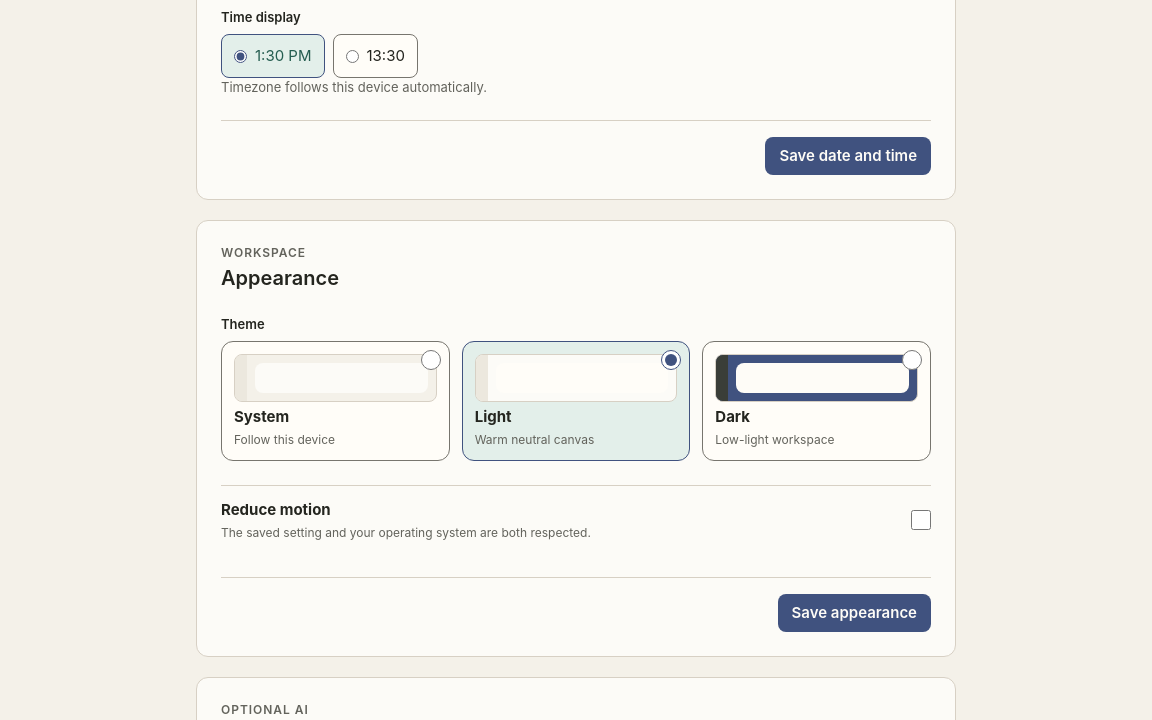
SettingsScreen › previews appearance immediately and rolls it back after a failed save
(page scrolled)
Click the radio button labelled "Dark Low-light workspace" at (912, 360), box left=902, top=350, right=922, bottom=370
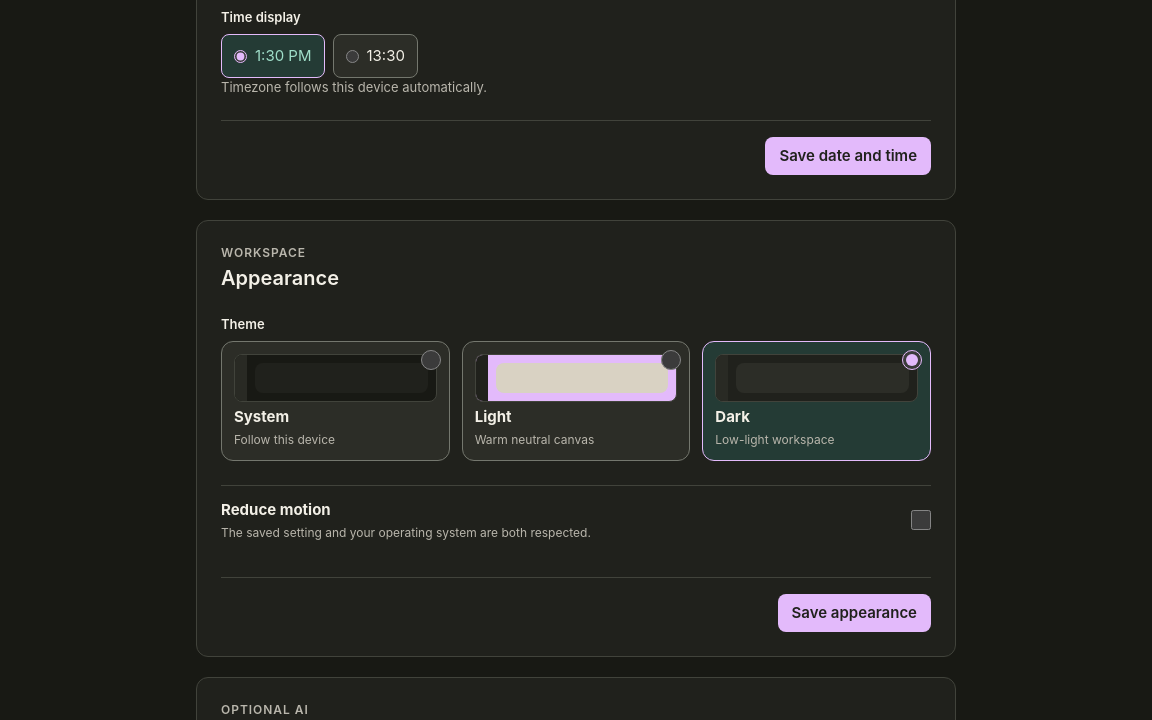
Click the button "Save appearance" at (854, 613), box left=778, top=594, right=931, bottom=632
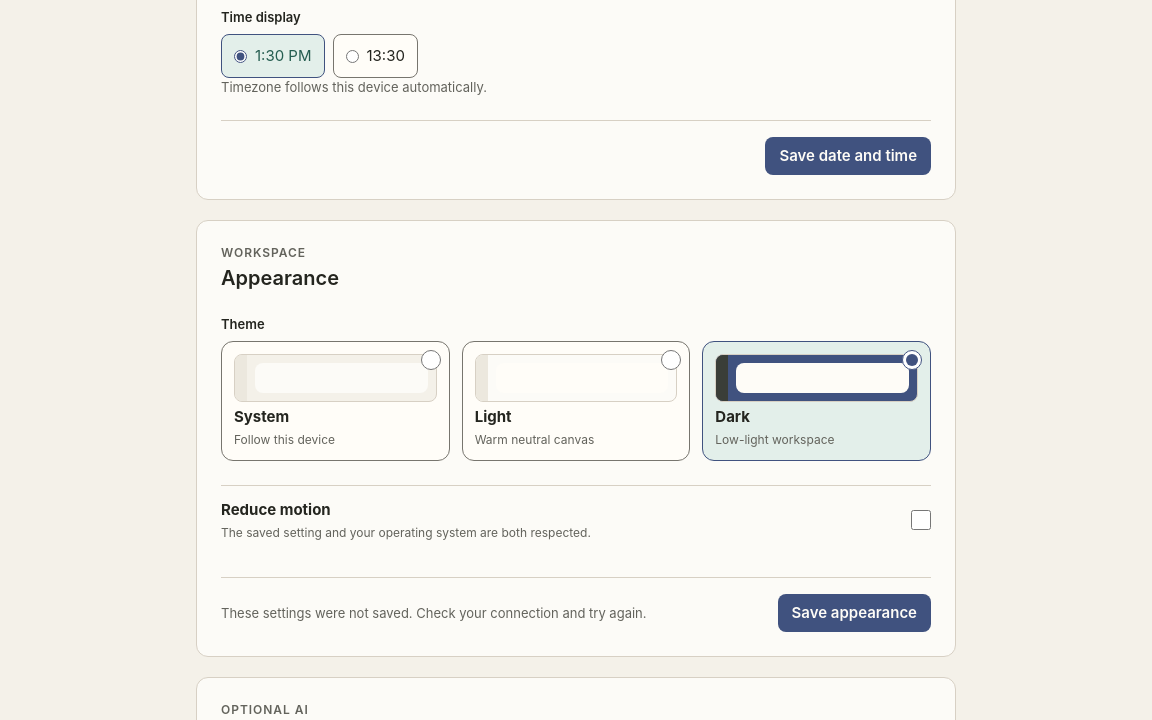
Expected: the text "These settings were not saved" is shown, left=221, top=605, right=646, bottom=621
